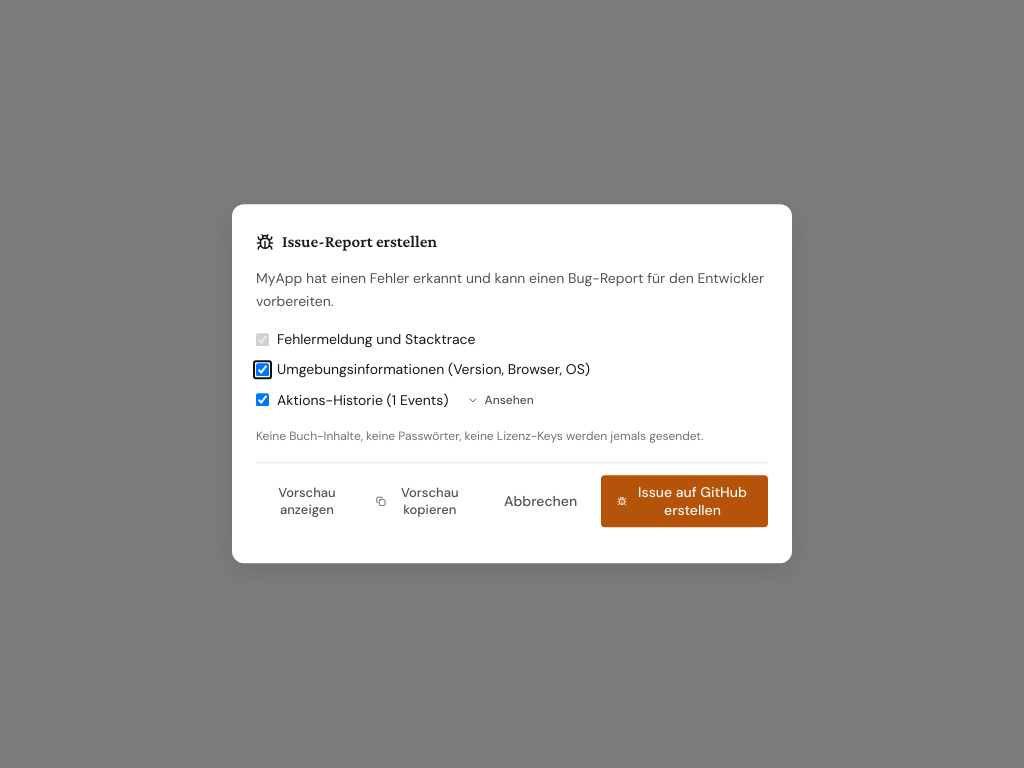
Scenario: ErrorReportDialog › preview toggle shows issue body
Click the button "Vorschau anzeigen".
click(307, 502)  # box [256,476,358,528]
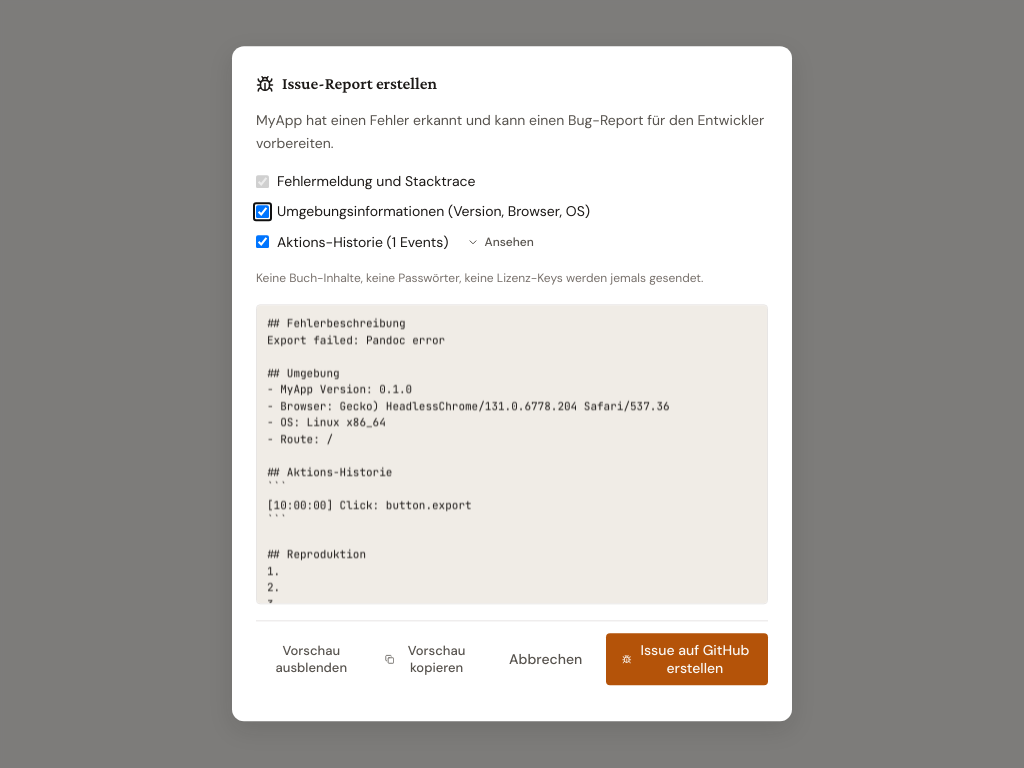
Check: the text "Export failed: Pandoc error" is shown, box [267,317,762,677]
Check: the button "Vorschau ausblenden" is shown, box [256,634,367,686]
